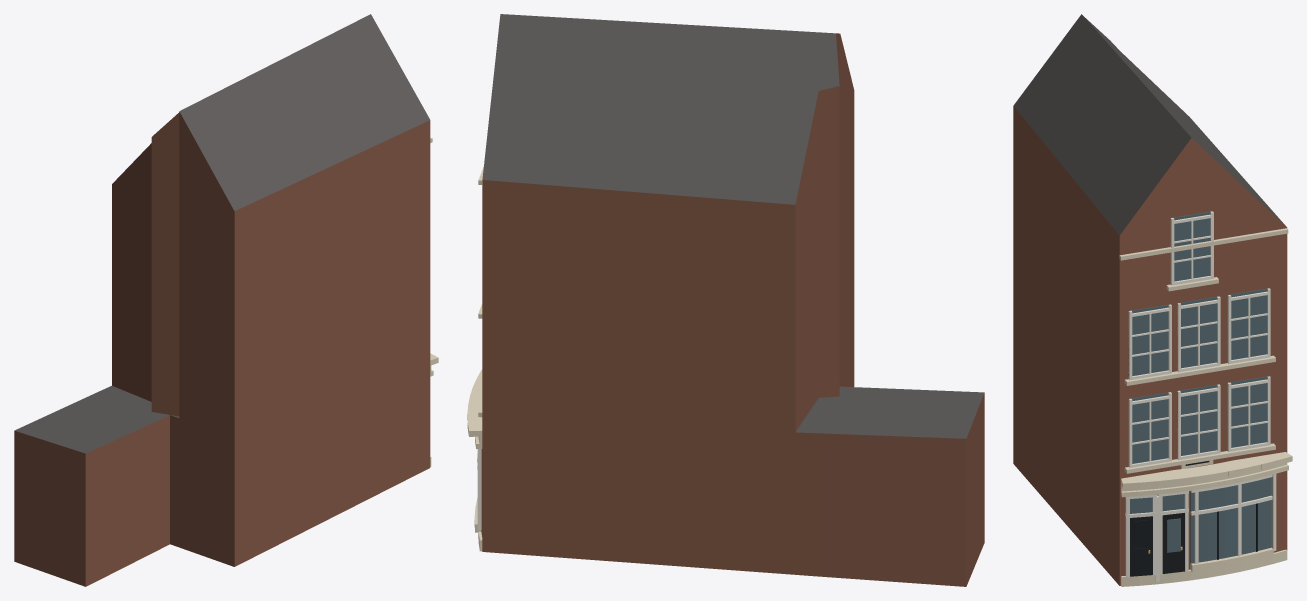
Rendered from theo-thijssen-museum.glb.
3 renders of one model, left to right at view 1: azimuth 30°, elevation 25°; view 2: azimuth 150°, elevation 25°; view 3: azimuth 270°, elevation 25°, orthographic. The views are drawn at different scales.
Visible parts, largest first — view 1: theo-thijssen-museum; view 2: theo-thijssen-museum; view 3: theo-thijssen-museum.
Boxes of the visible parts, x1,y1,x2,y2 form: theo-thijssen-museum: [14, 14, 438, 586]; theo-thijssen-museum: [467, 14, 984, 586]; theo-thijssen-museum: [1013, 14, 1292, 586].
Bounding box in the file's own units: 13.55 × 13.51 × 7.77.
